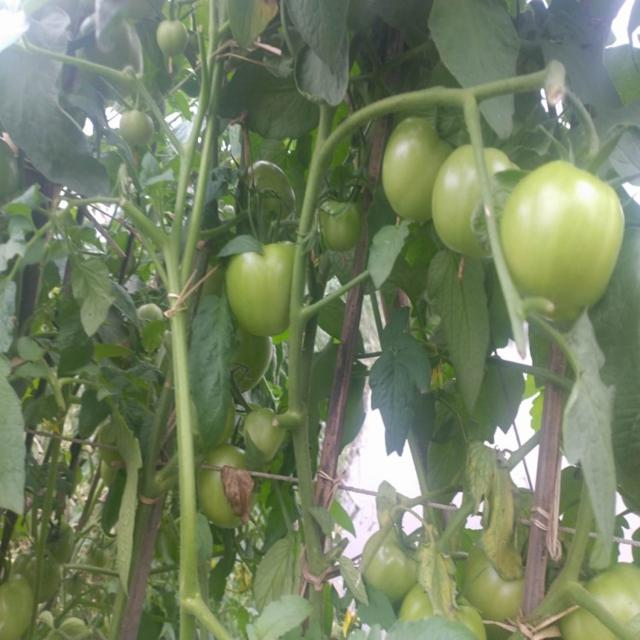tomato: (503, 158, 623, 320), (441, 142, 519, 251), (226, 236, 308, 336), (382, 111, 449, 223), (561, 566, 640, 640), (460, 552, 534, 617), (193, 447, 250, 528), (362, 526, 425, 595), (406, 588, 484, 635), (1, 567, 45, 640), (314, 190, 364, 253), (247, 165, 295, 214), (243, 404, 286, 451), (152, 17, 192, 64), (118, 108, 156, 150), (136, 299, 162, 328)
